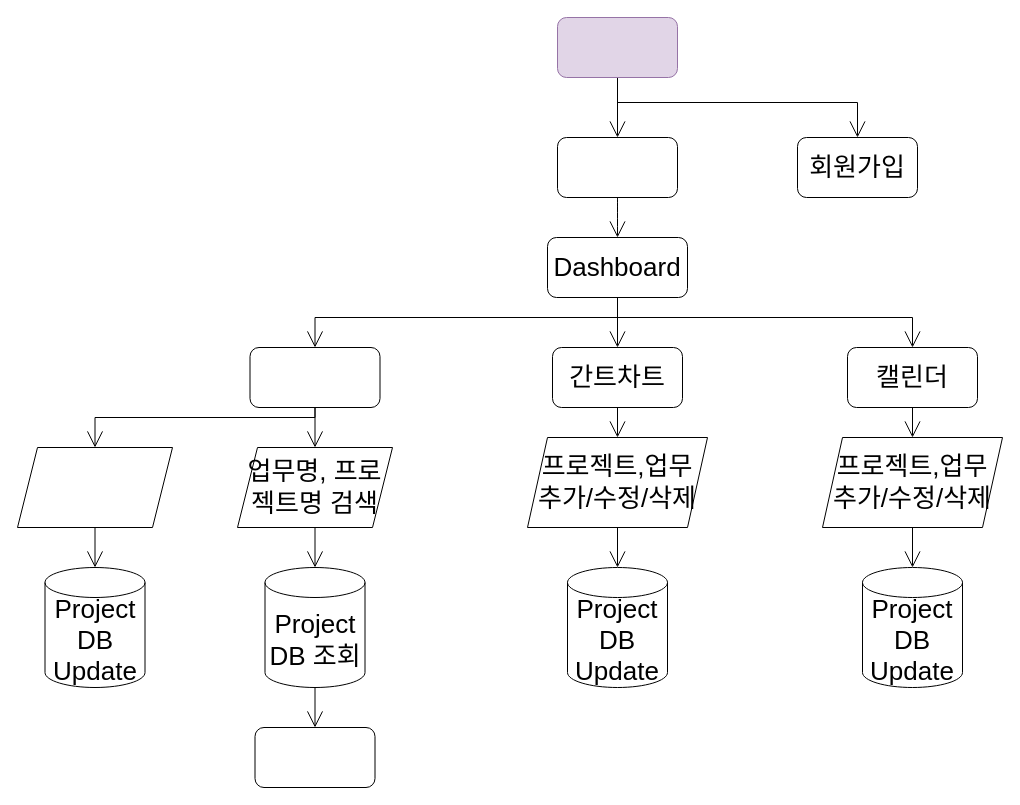
Image size: 1020x805. Some labels were removed from this diagram. Here are the shapes that lost their labels. From the top down, the centre of each, then its label:
the point at 617,47: 4PRO
the point at 617,167: 로그인
the point at 314,377: 전체업무
the point at 94,487: 프로젝트 상태 변경
the point at 314,757: 결과 출력
